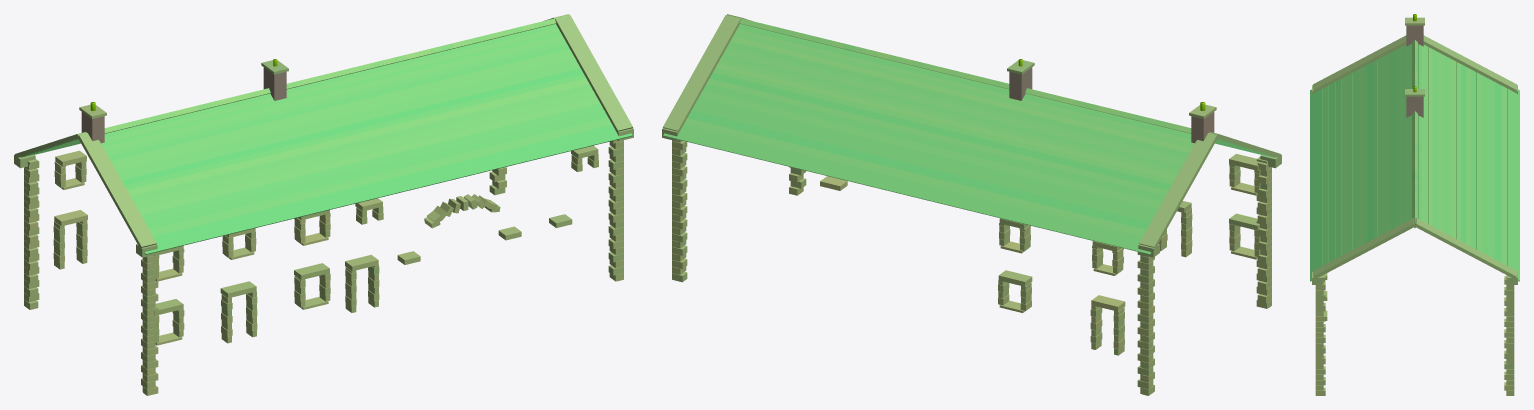
The model's file is SM_Bld_123_Stone.glb.
3 views of the same model, side by side, from view 1: azimuth 30°, elevation 25°; view 2: azimuth 150°, elevation 25°; view 3: azimuth 270°, elevation 25° (orthographic). The views are drawn at different scales.
Visible parts, largest first — view 1: SM_Bld_123_Stone; view 2: SM_Bld_123_Stone; view 3: SM_Bld_123_Stone.
Boxes of the visible parts, x1,y1,x2,y2 form: SM_Bld_123_Stone: (14,14,633,395); SM_Bld_123_Stone: (662,14,1281,395); SM_Bld_123_Stone: (1310,14,1519,395).
Size of the model in its own units: 23.36 by 11.16 by 10.76.
